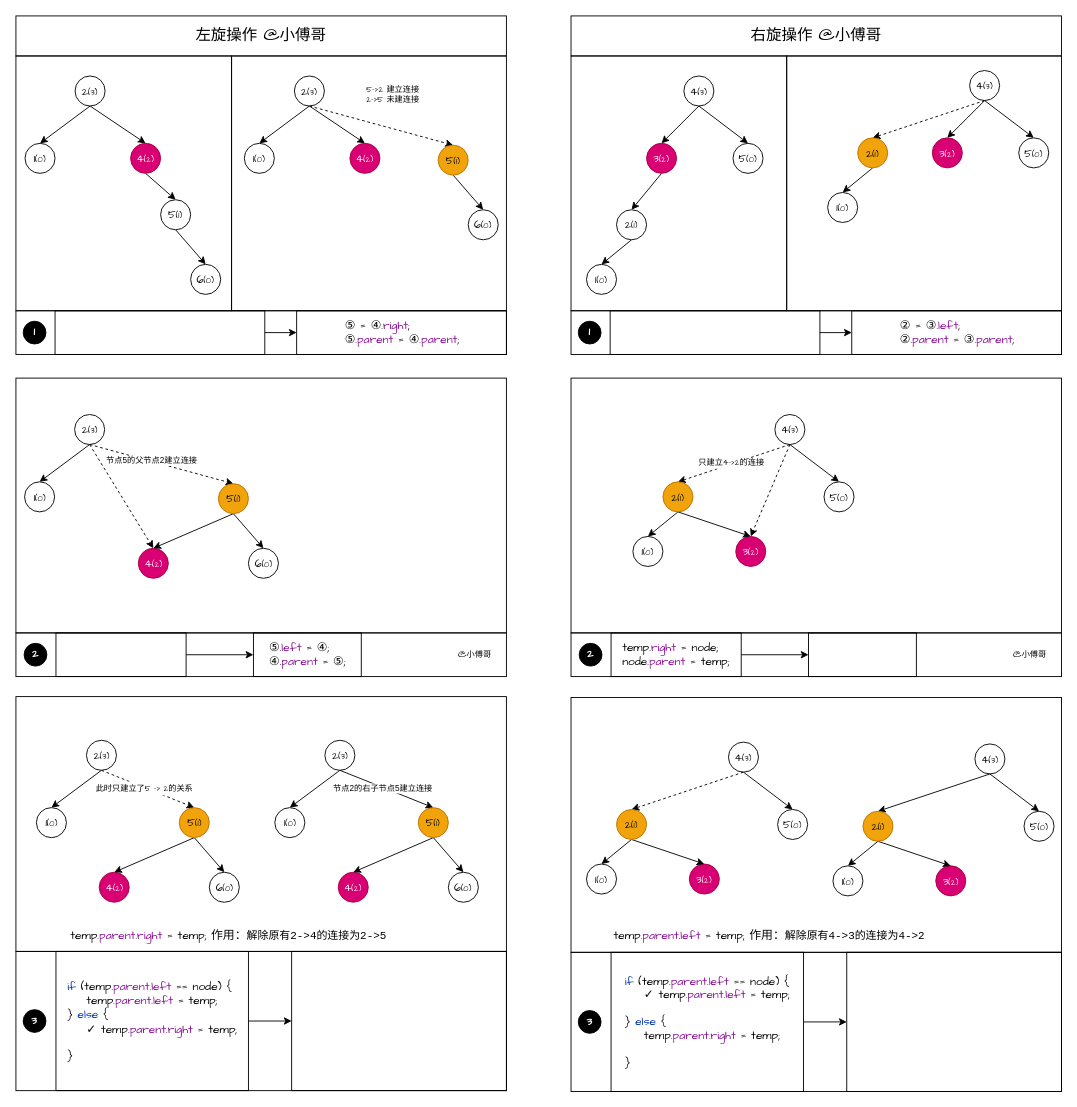
Image size: 1077x1107. Some labels were removed from this diagram. The shapes that lost their labels are listed below. From the top down, each one's box as (x1, y1, x2, y2) in pixels, then its label:
(54, 310, 265, 354): Node temp = node. right ; temp . parent = node. parent ;
(609, 310, 820, 354): Node temp = node. left ; temp . parent = node. parent ;
(55, 632, 186, 677): temp . left = node; node. parent = temp ;
(808, 632, 916, 677): ② . right = ③; ③. parent = ② ;
(291, 950, 506, 1091): ⑤. parent . right = ⑤ ; ②.right = ⑤
(846, 951, 1062, 1092): ②. parent . left = ② ; ②.right = ③
